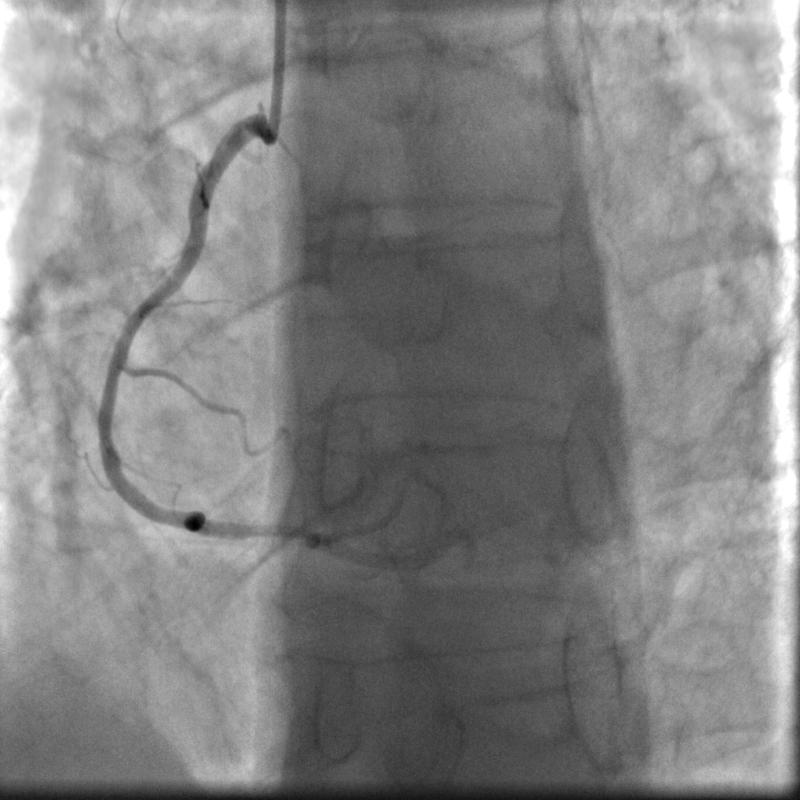Stenosis: (200, 498, 309, 565)
